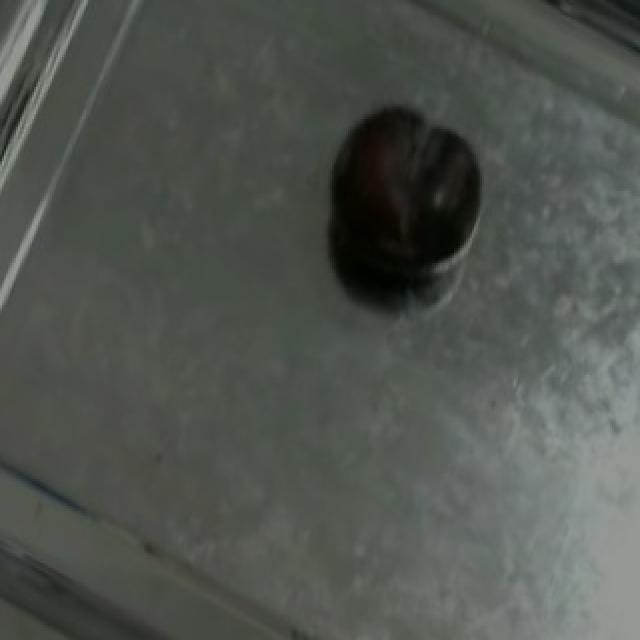Fruit: (316, 91, 498, 292)
